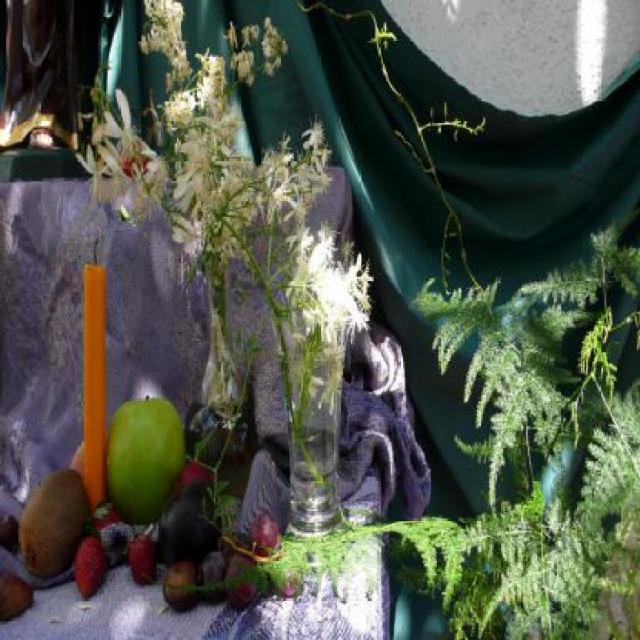Apple pie: (98, 388, 180, 526)
